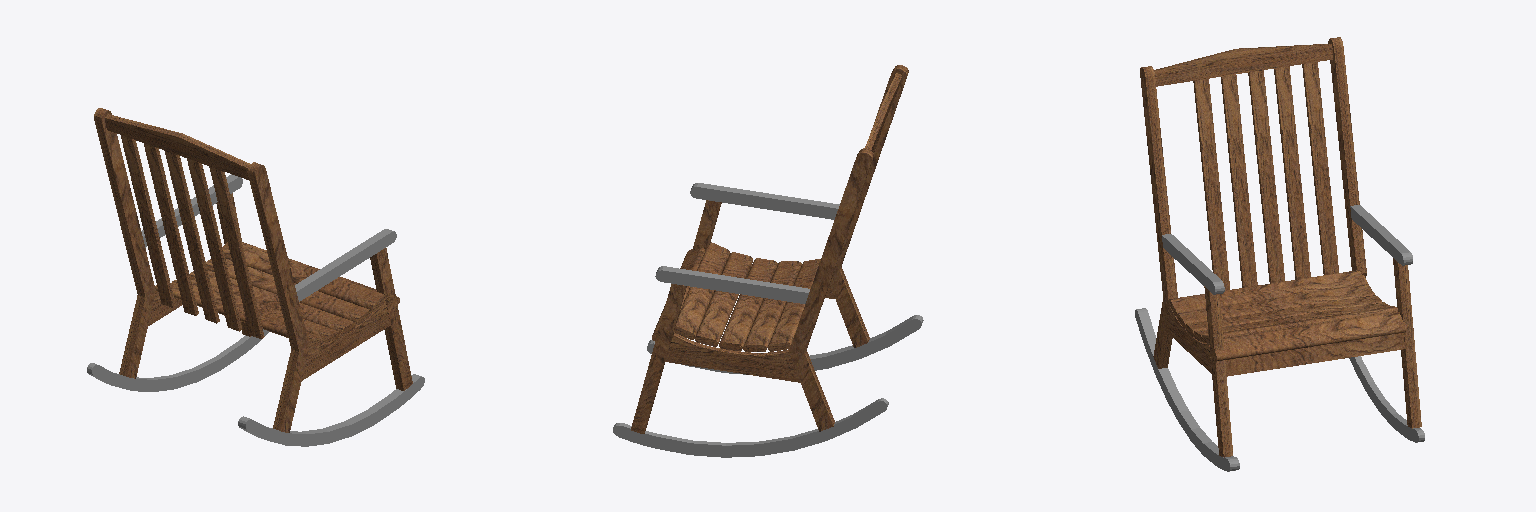
3 renders of one model, left to right at view 1: azimuth 30°, elevation 25°; view 2: azimuth 150°, elevation 25°; view 3: azimuth 270°, elevation 25°, orthographic.
Visible parts, largest first — view 1: Shape008, Shape002, Shape013, Shape006, Shape1, Shape012, Box005, Box003, Box002, Box006, Box004, Shape004 (+3 smaller); view 2: Shape008, Shape013, Shape012, Shape011, Shape002, Shape009, Shape003, Shape010, Shape006, Shape004, Shape1; view 3: Shape008, Shape002, Shape1, Box005, Box003, Box006, Box004, Shape013, Box002, Shape007, Shape006, Shape004 (+5 smaller).
Boxes of the visible parts, x1,y1,x2,y2 form: Shape008: [155, 242, 399, 345]; Shape002: [247, 162, 309, 432]; Shape013: [94, 108, 155, 378]; Shape006: [238, 374, 424, 446]; Shape1: [105, 114, 249, 179]; Shape012: [87, 329, 268, 391]; Box005: [144, 143, 198, 315]; Box003: [187, 159, 241, 331]; Box002: [209, 166, 264, 338]; Box006: [121, 135, 175, 307]; Box004: [164, 150, 219, 323]; Shape004: [370, 248, 412, 390]; Shape008: [652, 242, 820, 351]; Shape013: [789, 148, 873, 431]; Shape012: [613, 398, 888, 457]; Shape011: [665, 332, 800, 382]; Shape002: [830, 65, 908, 347]; Shape009: [655, 266, 809, 303]; Shape003: [690, 183, 839, 219]; Shape010: [631, 284, 686, 433]; Shape006: [647, 315, 923, 374]; Shape004: [672, 200, 721, 337]; Shape1: [865, 73, 902, 151]; Shape008: [1169, 270, 1406, 361]; Shape002: [1140, 66, 1177, 368]; Shape1: [1154, 44, 1332, 86]; Box005: [1274, 66, 1310, 279]; Box003: [1221, 75, 1257, 287]; Box006: [1302, 62, 1338, 274]; Box004: [1248, 70, 1284, 283]; Shape013: [1328, 37, 1366, 277]; Box002: [1193, 79, 1229, 290]; Shape007: [1213, 333, 1404, 377]; Shape006: [1135, 308, 1239, 471]; Shape004: [1204, 286, 1232, 457].
Size of the model in its own units: 3.84 by 4.08 by 3.35.
2 materials, 1 textured.